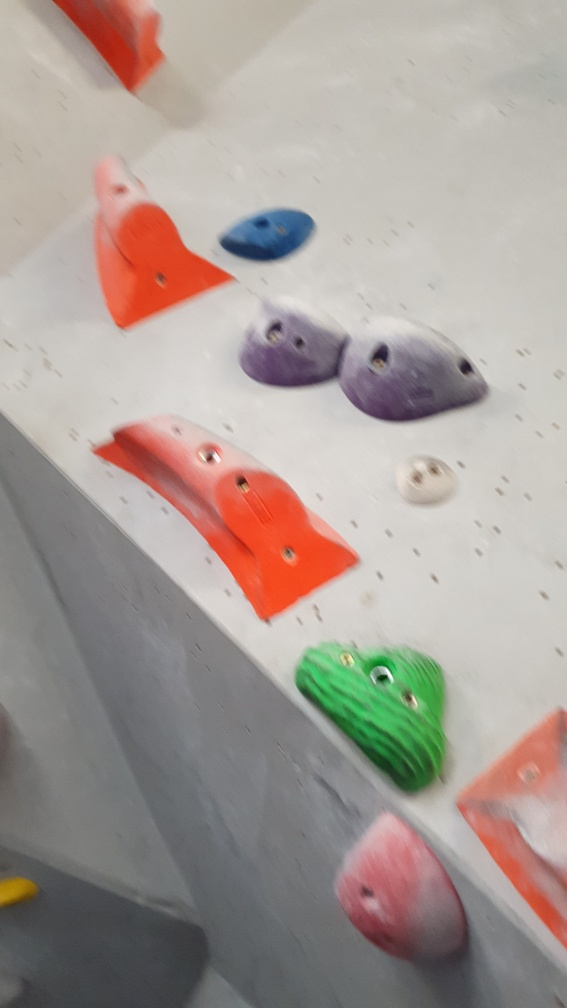Jug: (292, 633, 447, 797), (334, 315, 490, 422), (234, 294, 348, 391)
Pinch: (90, 410, 360, 622), (455, 702, 567, 958), (87, 150, 238, 332), (44, 1, 166, 99)
Sloper: (326, 809, 473, 969)
